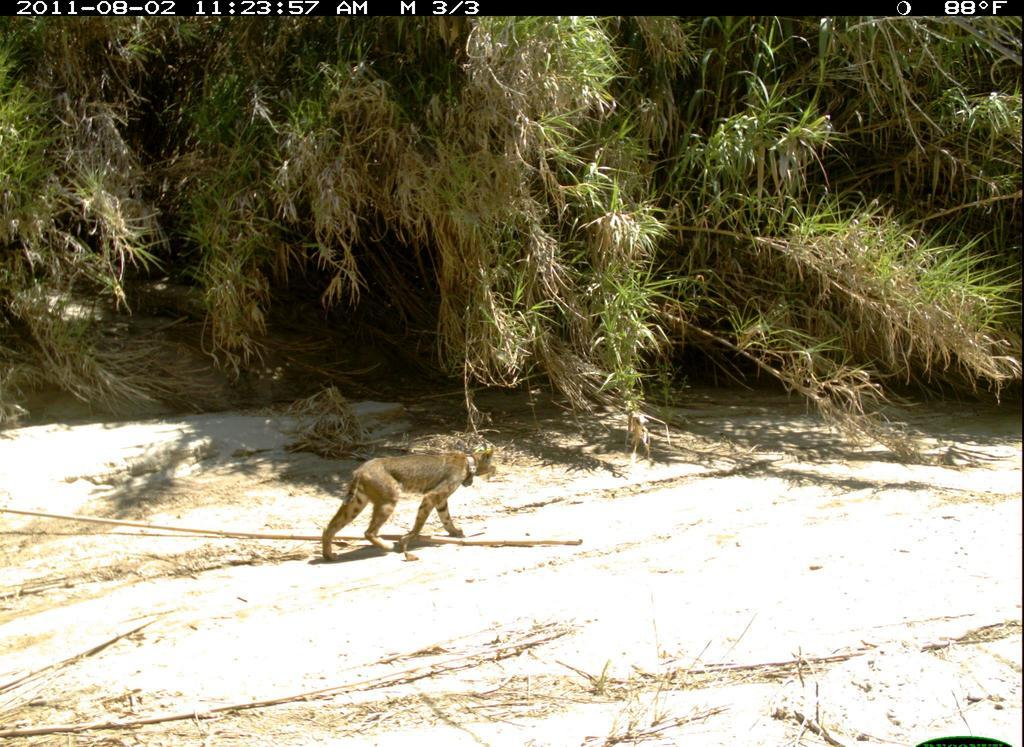bobcat: (303, 436, 507, 570)
